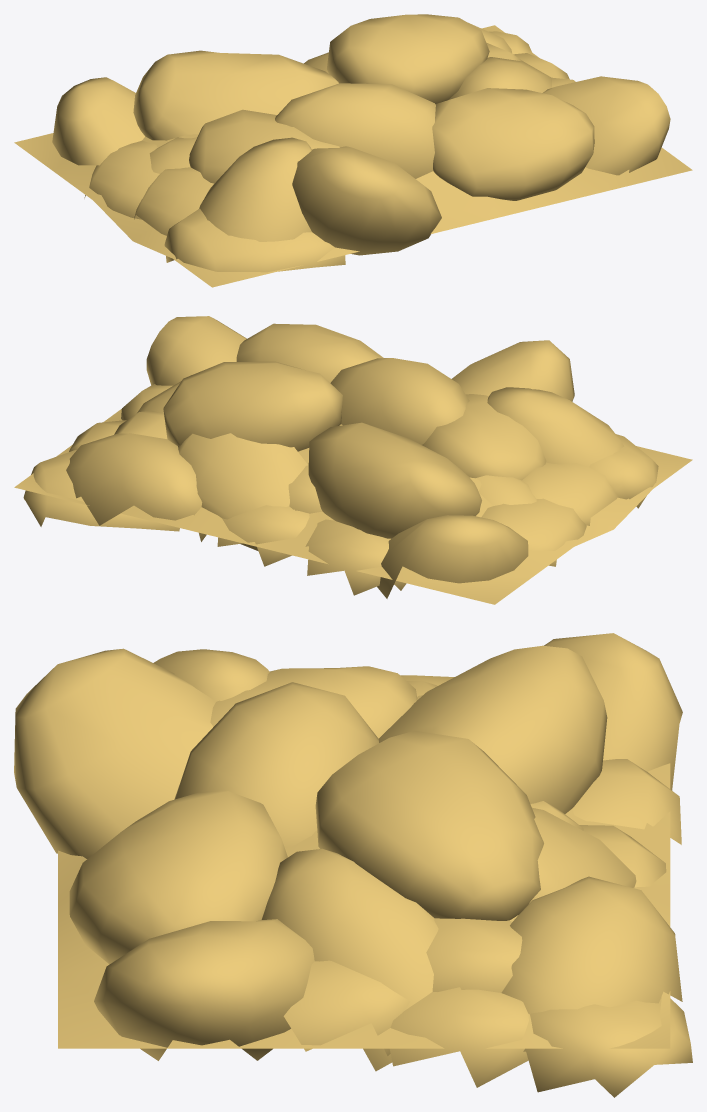
File: mesh_farmtruck_fullcrate03.fbx
3 views of the same model, one above another, from view 1: azimuth 30°, elevation 25°; view 2: azimuth 150°, elevation 25°; view 3: azimuth 270°, elevation 25° (orthographic). The views are drawn at different scales.
Visible parts, largest first — view 1: mesh_farmtruck_fullcrate03; view 2: mesh_farmtruck_fullcrate03; view 3: mesh_farmtruck_fullcrate03.
Boxes of the visible parts, box(x1,y1,x2,y2) form: mesh_farmtruck_fullcrate03: box(14, 14, 692, 287); mesh_farmtruck_fullcrate03: box(14, 316, 692, 604); mesh_farmtruck_fullcrate03: box(14, 633, 692, 1097).
Bounding box in the file's own units: 0.9336 × 0.2366 × 0.7214.
